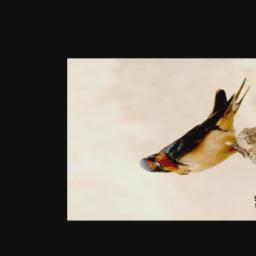Swallow: (133, 77, 256, 177)
